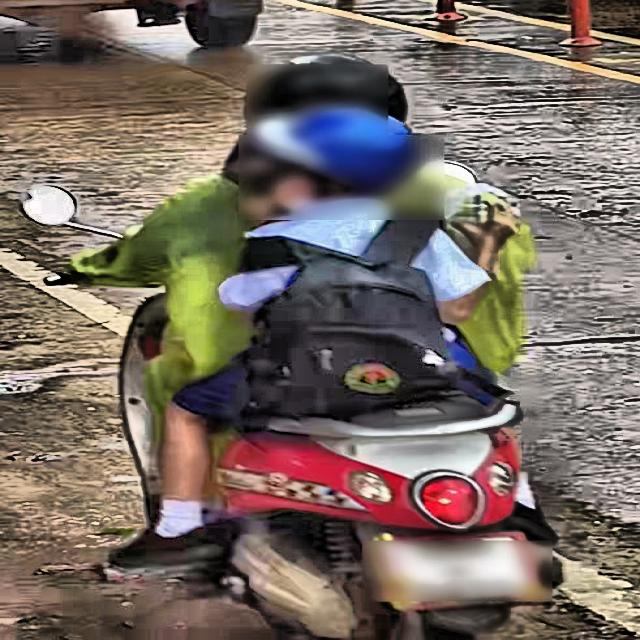motorcycle: (26, 183, 573, 640)
